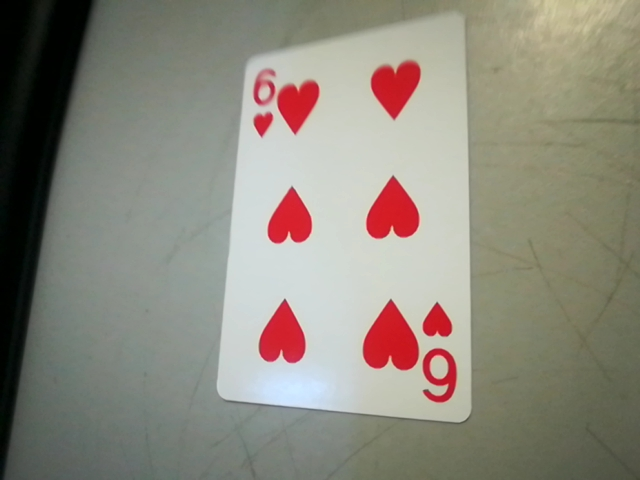hx 6: (416, 298, 469, 410)
